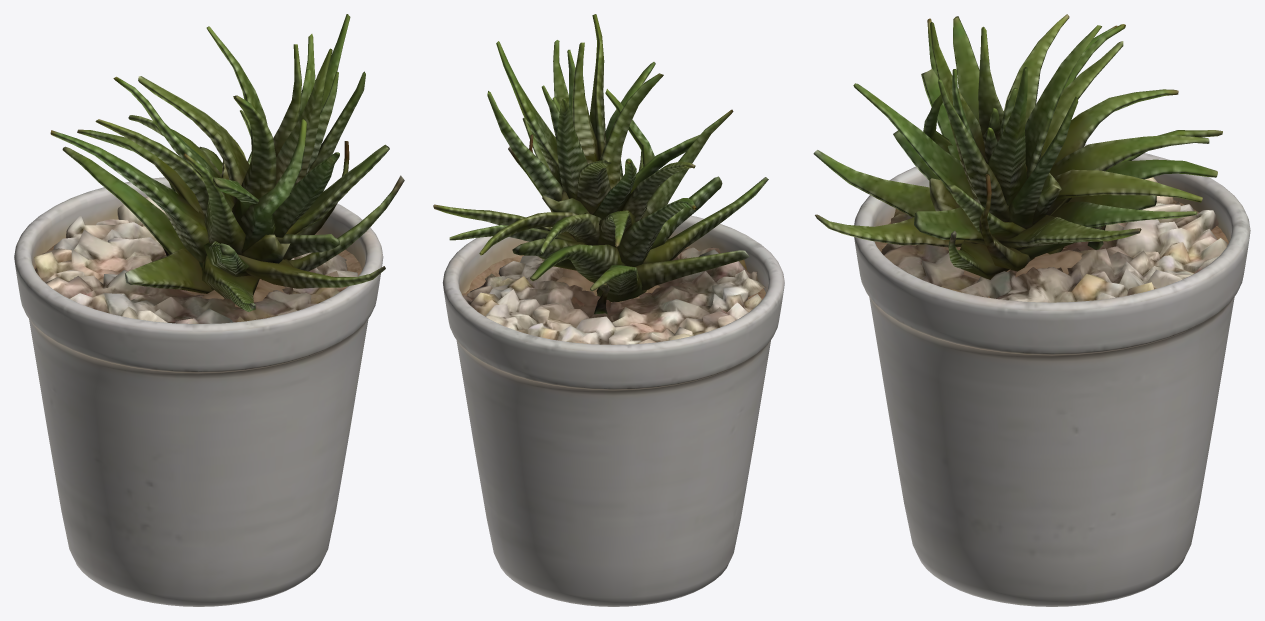
File: aloe.glb
The picture shows the model from 3 angles, left to right: view 1: azimuth 30°, elevation 25°; view 2: azimuth 150°, elevation 25°; view 3: azimuth 270°, elevation 25°; orthographic projection. The views are drawn at different scales.
Parts seen in each view (by area): view 1: potted_plant_04_ground; view 2: potted_plant_04_ground; view 3: potted_plant_04_ground.
Part boxes in pixels (x1=…): potted_plant_04_ground: x1=14, y1=14, x2=404, y2=606; potted_plant_04_ground: x1=433, y1=14, x2=784, y2=606; potted_plant_04_ground: x1=813, y1=14, x2=1250, y2=606.
Bounding box in the file's own units: 0.1679 × 0.2675 × 0.1847.
Materials: 1 (1 with a texture image).
